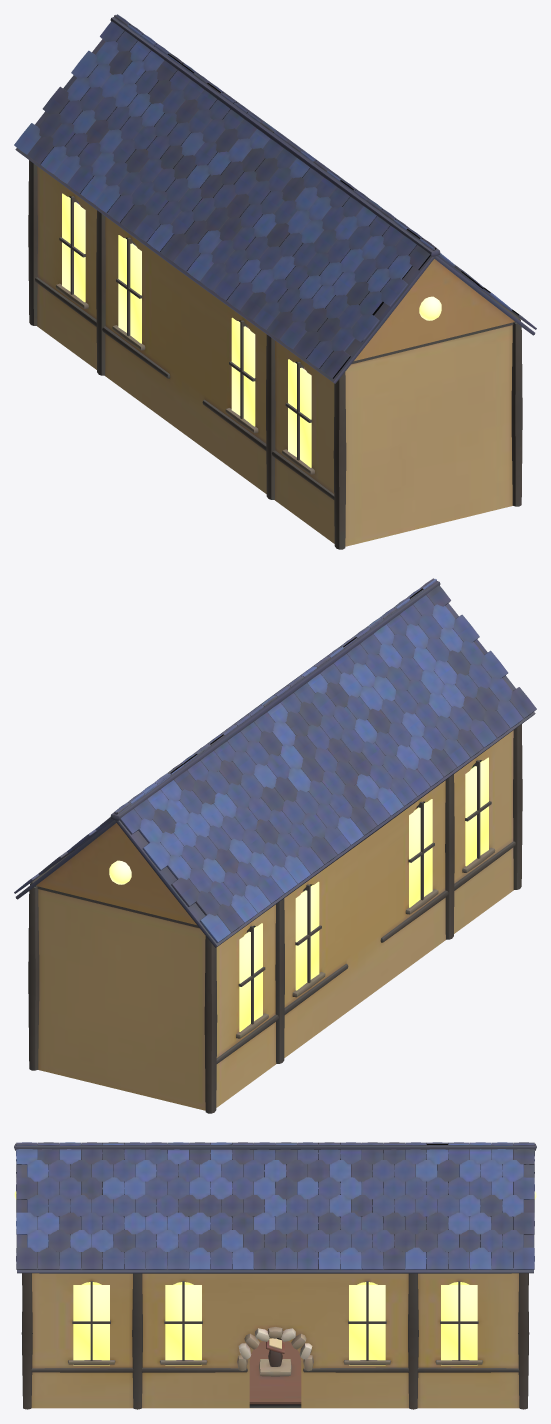
File: castle_library.glb
3 renders of one model, top to bottom at view 1: azimuth 30°, elevation 25°; view 2: azimuth 150°, elevation 25°; view 3: azimuth 270°, elevation 25°, orthographic. The views are drawn at different scales.
Visible parts, largest first — view 1: main, glow; view 2: main, glow; view 3: main, glow.
Part boxes in pixels (x1,y1,x2,y2): main: (14, 14, 536, 549); glow: (62, 193, 441, 467); main: (14, 578, 536, 1113); glow: (109, 757, 488, 1031); main: (14, 1142, 536, 1409); glow: (14, 1191, 536, 1365).
Size of the model in its own units: 10.45 by 13.89 by 28.45.
Materials: 3 (1 with a texture image).
